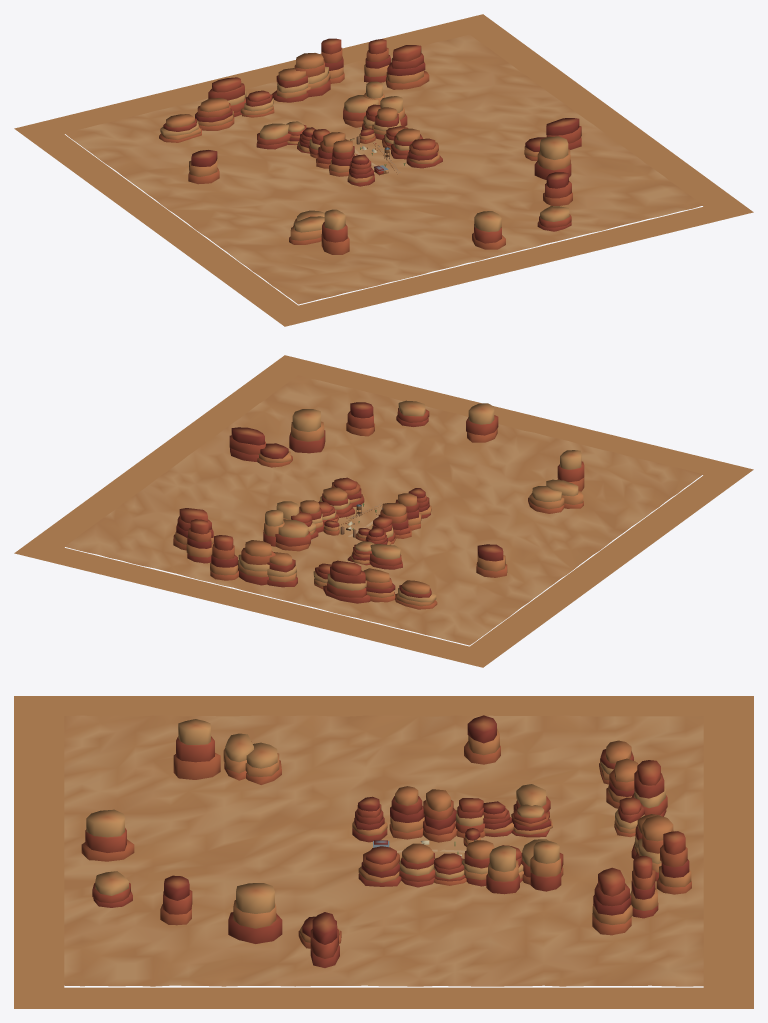
3 renders of one model, top to bottom at view 1: azimuth 30°, elevation 25°; view 2: azimuth 150°, elevation 25°; view 3: azimuth 270°, elevation 25°, orthographic. The views are drawn at different scales.
Parts seen in each view (by area): view 1: baked; view 2: baked; view 3: baked.
Boxes of the visible parts, x1,y1,x2,y2 form: baked: (14,14,753,326); baked: (14,355,753,667); baked: (14,696,753,1008).
Size of the model in its own units: 500 by 38.2 by 500.
